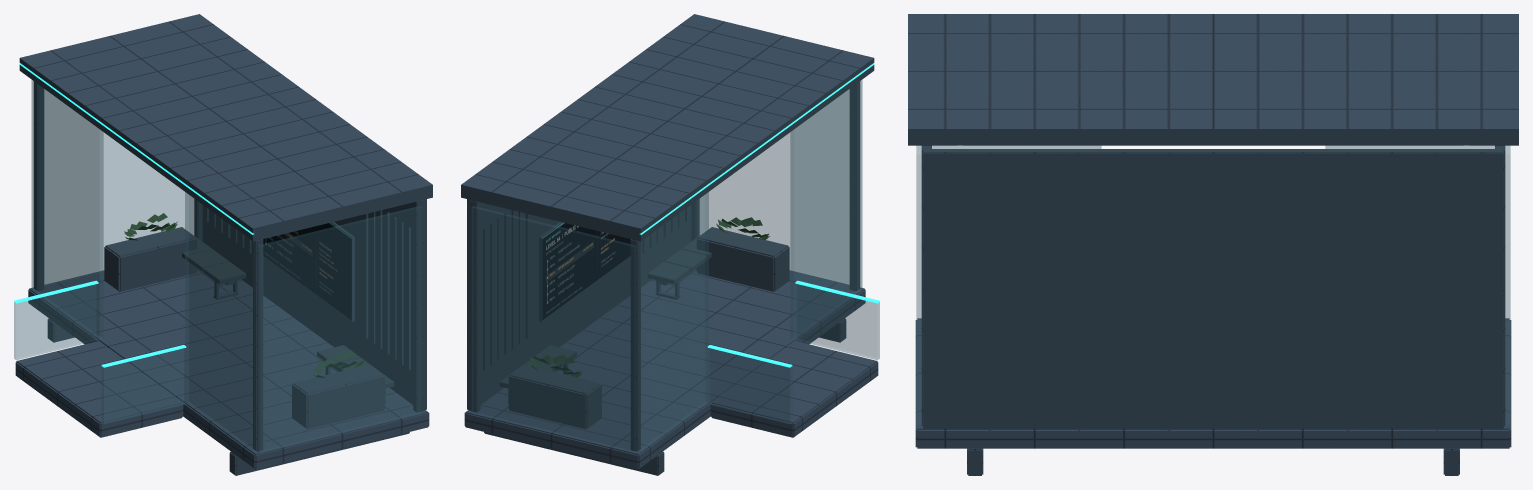
Rendered from east-public-room-84-uv2.glb.
The picture shows the model from 3 angles, left to right: view 1: azimuth 30°, elevation 25°; view 2: azimuth 150°, elevation 25°; view 3: azimuth 270°, elevation 25°; orthographic projection. The views are drawn at different scales.
Parts seen in each view (by area): view 1: east-public-room-84::east-loggia-84-roof, east-public-room-84::east-loggia-84-side-glazing-313.95, east-public-room-84::east-loggia-84-room-floor, east-public-room-84::east-loggia-84-side-glazing-306.05, east-public-room-84::east-loggia-84-front-glazing-307.3, east-public-room-84::east-loggia-84-front-glazing-312.7, east-public-room-84::east-loggia-84-back, east-public-room-84::east-loggia-84-bridge-floor, east-public-room-84::east-loggia-84-wayfinding-diagram, east-public-room-84::east-loggia-84-bridge-edge-308.46, east-public-room-84::east-loggia-84-bridge-edge-311.54, east-public-room-84::east-loggia-84-planter-313.3 (+12 smaller); view 2: east-public-room-84::east-loggia-84-roof, east-public-room-84::east-loggia-84-side-glazing-306.05, east-public-room-84::east-loggia-84-room-floor, east-public-room-84::east-loggia-84-side-glazing-313.95, east-public-room-84::east-loggia-84-front-glazing-312.7, east-public-room-84::east-loggia-84-front-glazing-307.3, east-public-room-84::east-loggia-84-back, east-public-room-84::east-loggia-84-bridge-floor, east-public-room-84::east-loggia-84-wayfinding-diagram, east-public-room-84::east-loggia-84-bridge-edge-311.54, east-public-room-84::east-loggia-84-bridge-edge-308.46, east-public-room-84::east-loggia-84-planter-306.7 (+12 smaller); view 3: east-public-room-84::east-loggia-84-back, east-public-room-84::east-loggia-84-roof, east-public-room-84::east-loggia-84-room-floor, east-public-room-84::east-loggia-84-side-glazing-306.05, east-public-room-84::east-loggia-84-side-glazing-313.95.
Part boxes in pixels (box(x1,y1,x2,y2)): east-public-room-84::east-loggia-84-roof: box(19, 14, 432, 241); east-public-room-84::east-loggia-84-side-glazing-313.95: box(258, 206, 421, 452); east-public-room-84::east-loggia-84-room-floor: box(28, 269, 429, 469); east-public-room-84::east-loggia-84-side-glazing-306.05: box(33, 81, 193, 287); east-public-room-84::east-loggia-84-front-glazing-307.3: box(31, 80, 103, 339); east-public-room-84::east-loggia-84-front-glazing-312.7: box(185, 192, 255, 451); east-public-room-84::east-loggia-84-back: box(202, 199, 426, 410); east-public-room-84::east-loggia-84-bridge-floor: box(15, 341, 183, 437); east-public-room-84::east-loggia-84-wayfinding-diagram: box(263, 222, 351, 320); east-public-room-84::east-loggia-84-bridge-edge-308.46: box(14, 284, 98, 359); east-public-room-84::east-loggia-84-bridge-edge-311.54: box(102, 348, 185, 423); east-public-room-84::east-loggia-84-planter-313.3: box(292, 364, 385, 429); east-public-room-84::east-loggia-84-roof: box(461, 14, 874, 241); east-public-room-84::east-loggia-84-side-glazing-306.05: box(472, 206, 635, 452); east-public-room-84::east-loggia-84-room-floor: box(464, 269, 865, 469); east-public-room-84::east-loggia-84-side-glazing-313.95: box(700, 81, 860, 287); east-public-room-84::east-loggia-84-front-glazing-312.7: box(790, 80, 862, 339); east-public-room-84::east-loggia-84-front-glazing-307.3: box(638, 192, 708, 451); east-public-room-84::east-loggia-84-back: box(467, 199, 691, 410); east-public-room-84::east-loggia-84-bridge-floor: box(710, 341, 878, 437); east-public-room-84::east-loggia-84-wayfinding-diagram: box(542, 222, 630, 320); east-public-room-84::east-loggia-84-bridge-edge-311.54: box(795, 284, 879, 359); east-public-room-84::east-loggia-84-bridge-edge-308.46: box(708, 348, 791, 423); east-public-room-84::east-loggia-84-planter-306.7: box(508, 364, 601, 429); east-public-room-84::east-loggia-84-back: box(923, 149, 1503, 428); east-public-room-84::east-loggia-84-roof: box(908, 14, 1518, 145); east-public-room-84::east-loggia-84-room-floor: box(915, 318, 1511, 448); east-public-room-84::east-loggia-84-side-glazing-306.05: box(1505, 146, 1510, 424); east-public-room-84::east-loggia-84-side-glazing-313.95: box(916, 146, 921, 424).
Size of the model in its own units: 5.25 by 5.15 by 8.2.
9 materials, 2 textured.
